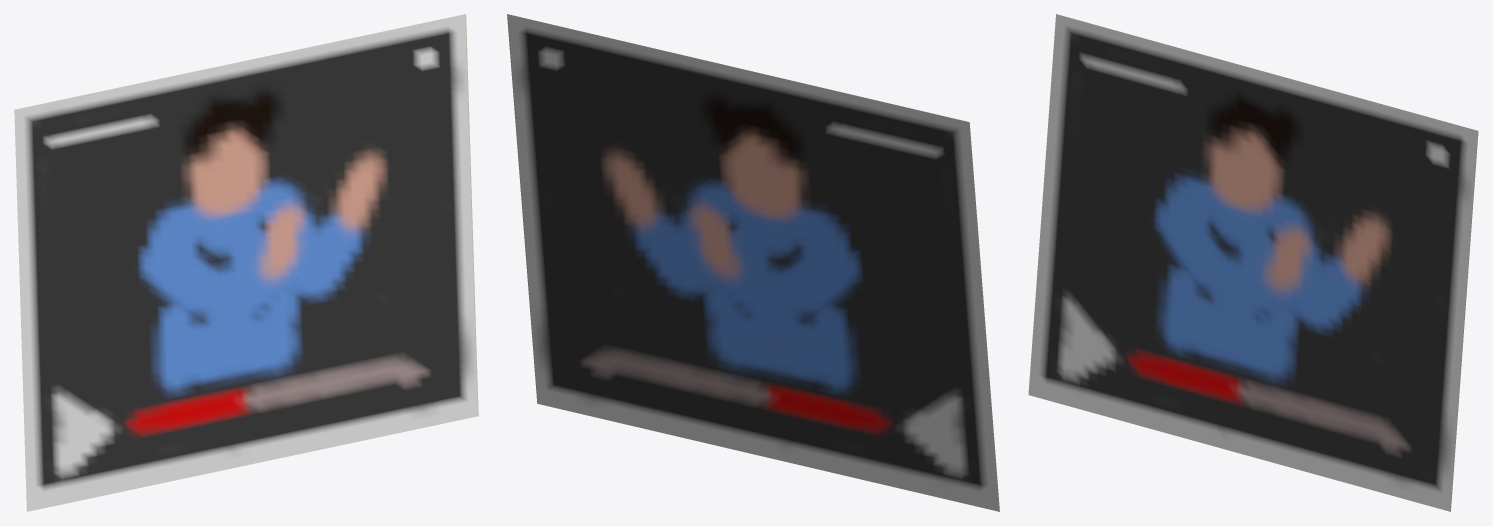
The model's file is deaf_poetry_glb.glb.
The picture shows the model from 3 angles, left to right: view 1: azimuth 30°, elevation 25°; view 2: azimuth 150°, elevation 25°; view 3: azimuth 330°, elevation 25°; orthographic projection. The views are drawn at different scales.
Parts seen in each view (by area): view 1: plane1; view 2: plane1; view 3: plane1.
Boxes of the visible parts, <box> form: plane1: <box>14,14,478,511</box>; plane1: <box>507,14,999,511</box>; plane1: <box>1028,14,1478,511</box>.
Bounding box in the file's own units: 3.76 × 3.12 × 0.3696.
1 material, 1 textured.
